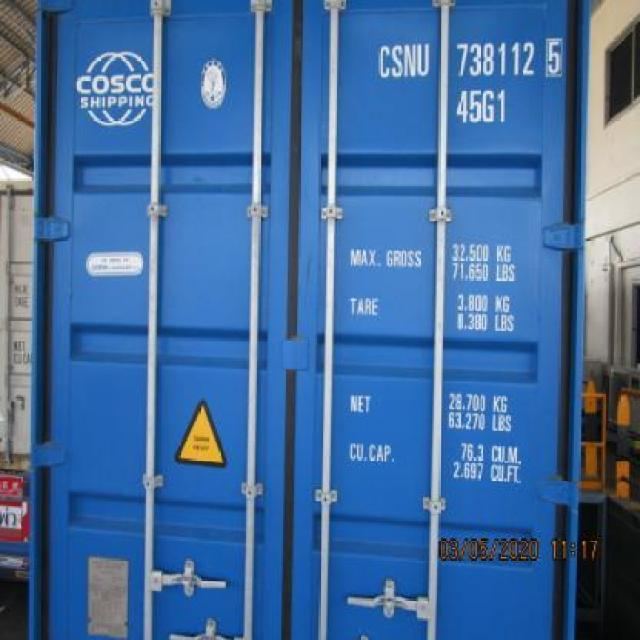ISO: (454, 90, 506, 122)
container_number: (377, 44, 558, 76)
